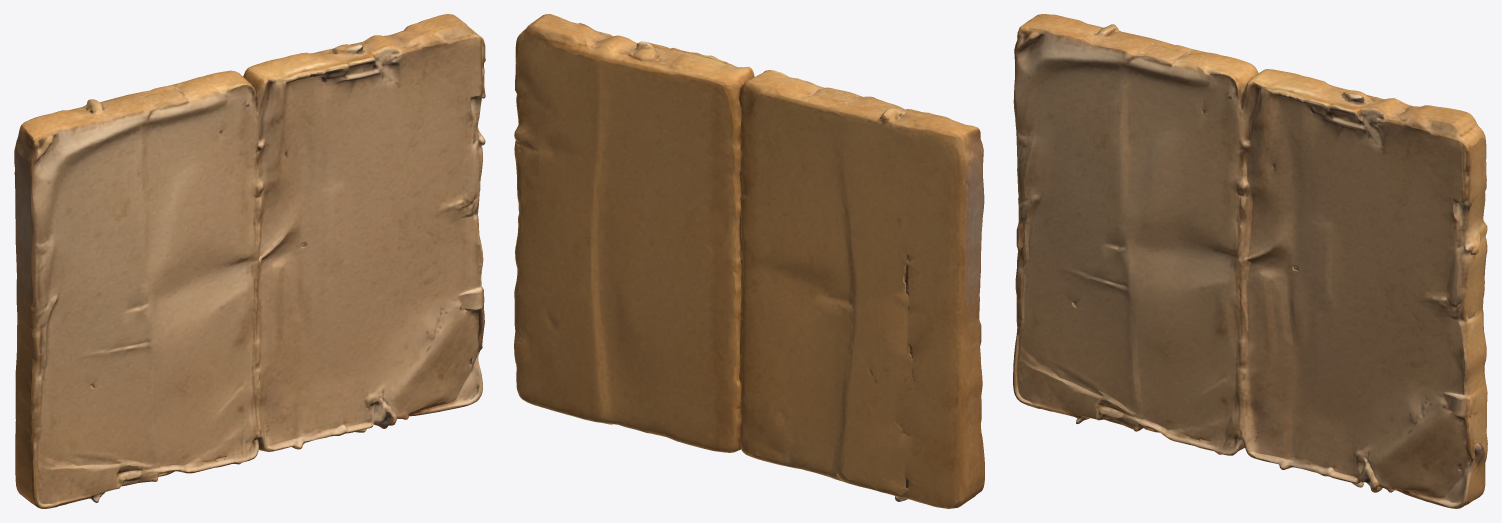
Rendered from S0-21_blank_pass_A.glb.
3 views of the same model, side by side, from view 1: azimuth 30°, elevation 25°; view 2: azimuth 150°, elevation 25°; view 3: azimuth 330°, elevation 25° (orthographic).
Parts seen in each view (by area): view 1: geometry_0; view 2: geometry_0; view 3: geometry_0.
Boxes of the visible parts, bbox=[...] form: geometry_0: bbox=[14, 14, 485, 508]; geometry_0: bbox=[514, 14, 984, 508]; geometry_0: bbox=[1013, 14, 1487, 508].
Size of the model in its own units: 0.3 by 0.2428 by 0.0298.
Materials: 1 (1 with a texture image).
